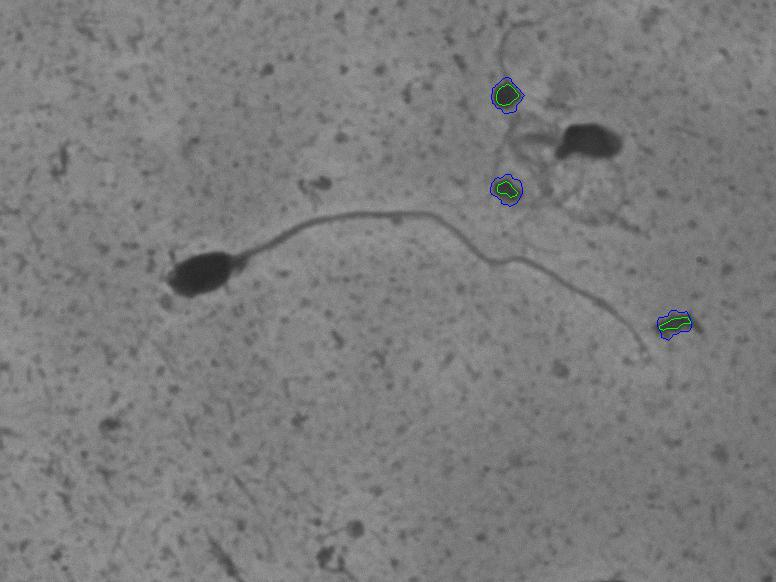Normal: (92, 201, 670, 395)
